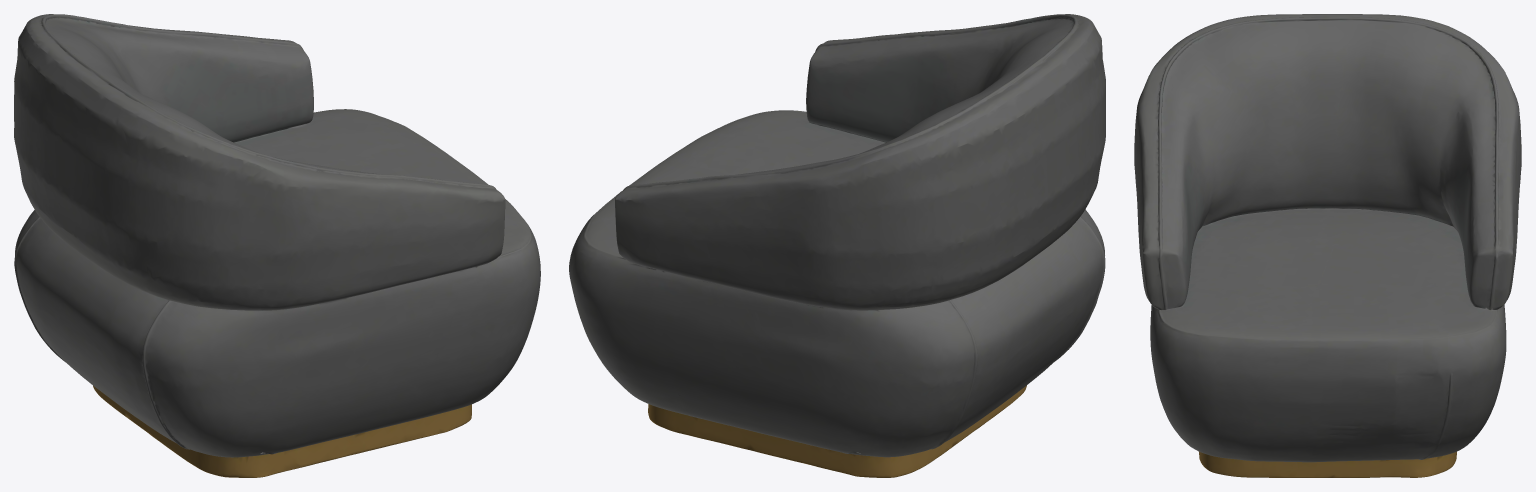
3 renders of one model, left to right at view 1: azimuth 30°, elevation 25°; view 2: azimuth 150°, elevation 25°; view 3: azimuth 270°, elevation 25°, orthographic. The views are drawn at different scales.
Visible parts, largest first — view 1: tripo_node_1330ed9b-4970-4fb0-9590-a95c018e54c3; view 2: tripo_node_1330ed9b-4970-4fb0-9590-a95c018e54c3; view 3: tripo_node_1330ed9b-4970-4fb0-9590-a95c018e54c3.
Part boxes in pixels (x1,y1,x2,y2): tripo_node_1330ed9b-4970-4fb0-9590-a95c018e54c3: (14, 14, 540, 477); tripo_node_1330ed9b-4970-4fb0-9590-a95c018e54c3: (569, 14, 1105, 477); tripo_node_1330ed9b-4970-4fb0-9590-a95c018e54c3: (1134, 14, 1521, 477).
Bounding box in the file's own units: 0.9843 × 0.85 × 0.9196.
Materials: 1 (1 with a texture image).
